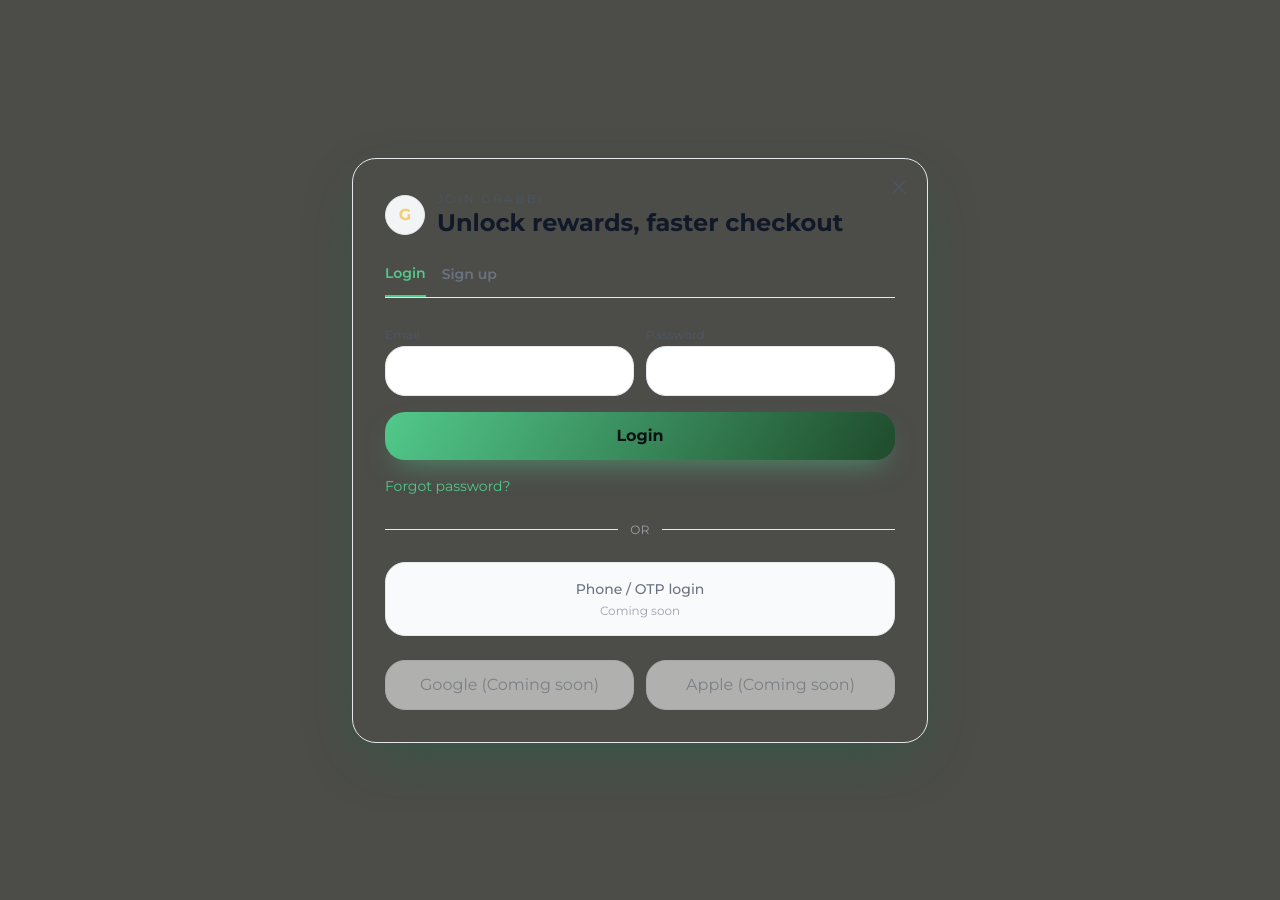
Test: AuthModal › toggles back from signup to login
// Switch to signup
Click the button "Sign up".
click(469, 280)  # box 442,262 -> 497,296
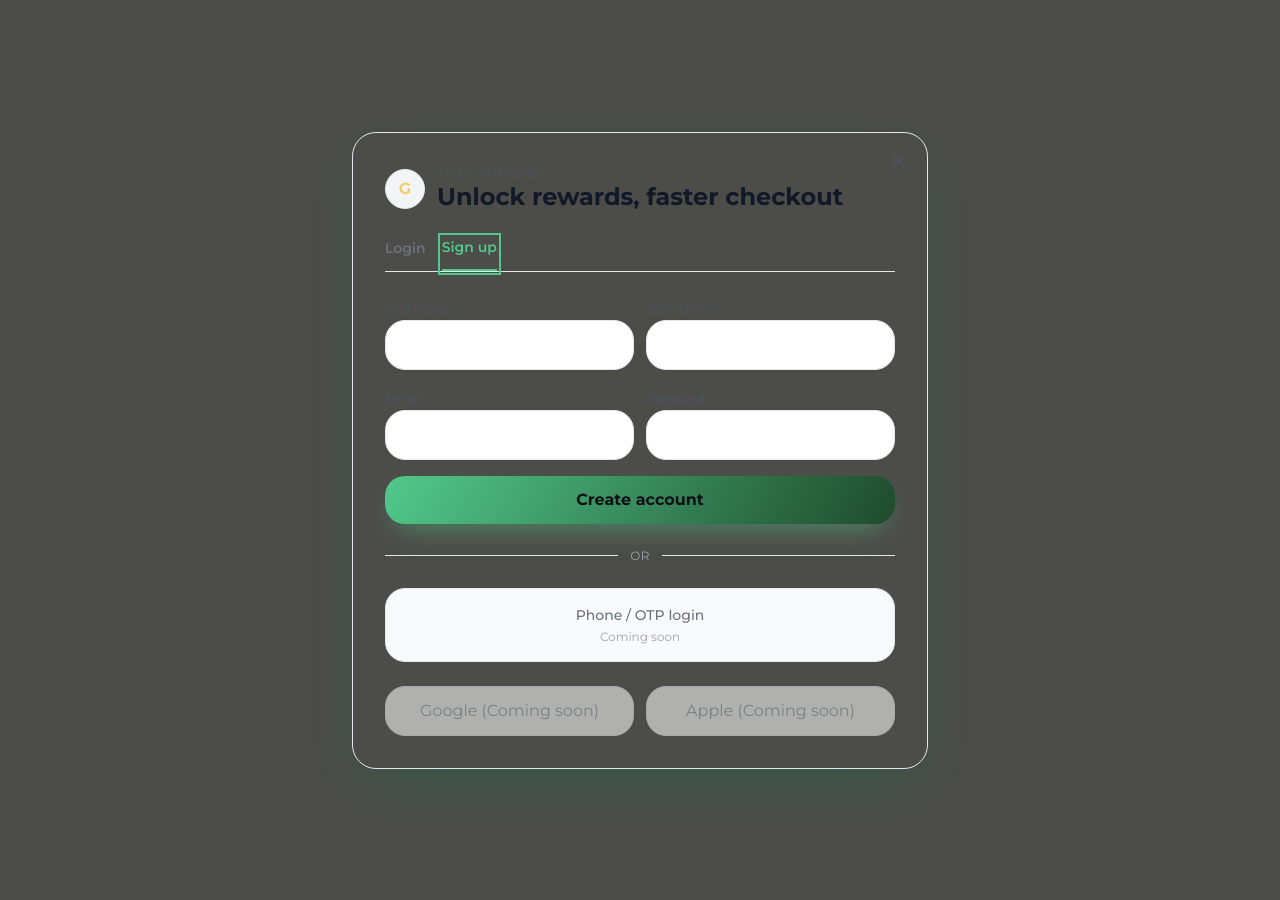
Now the field labelled "First name *" is shown, box 385,320 -> 634,370
// Switch back to login — click the Login tab (first Login button)
Click the button "Login".
click(405, 254)  # box 385,236 -> 426,270
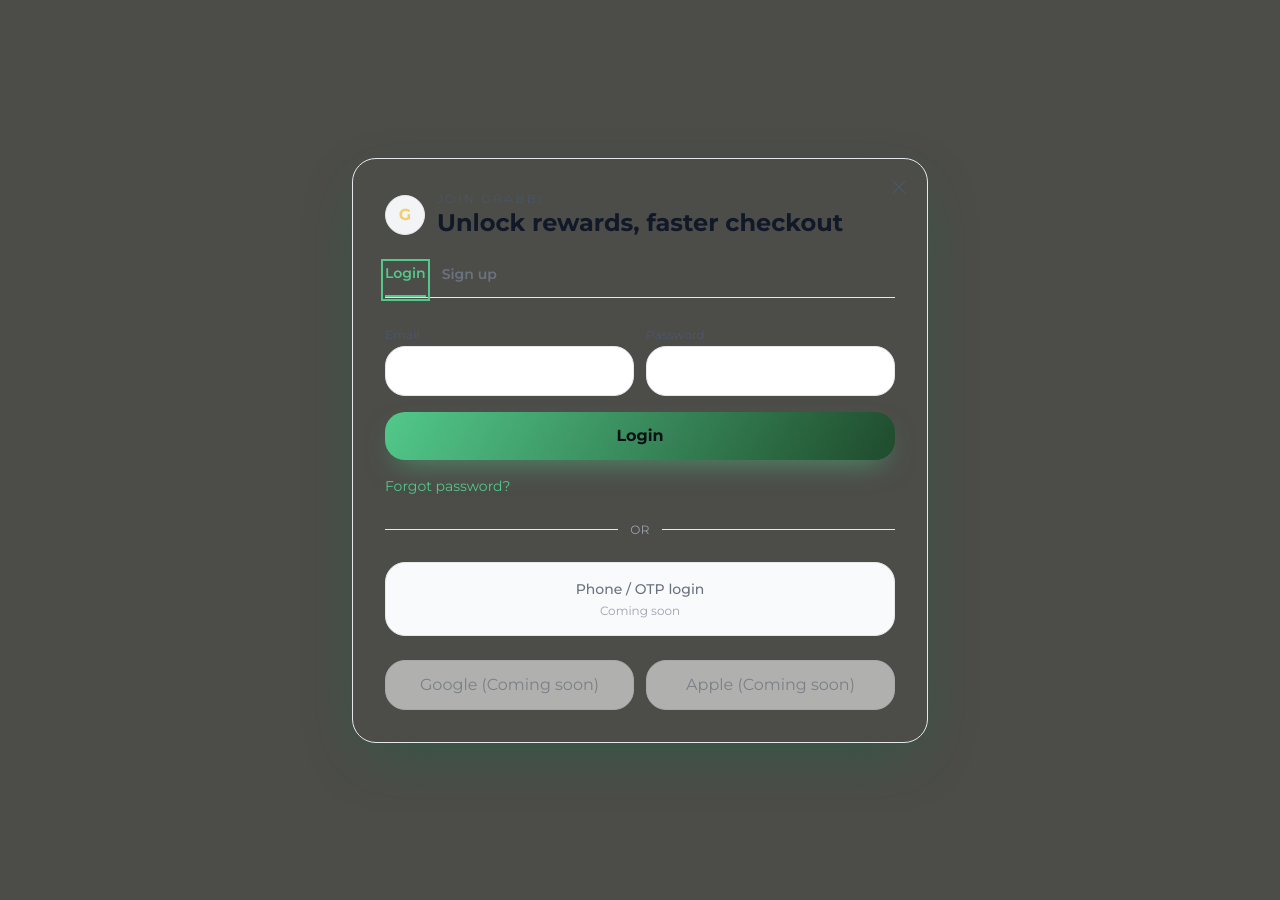
Now the label labelled "First name *" is gone
Now the button "Login" below "Email" is shown, box 385,412 -> 895,460
